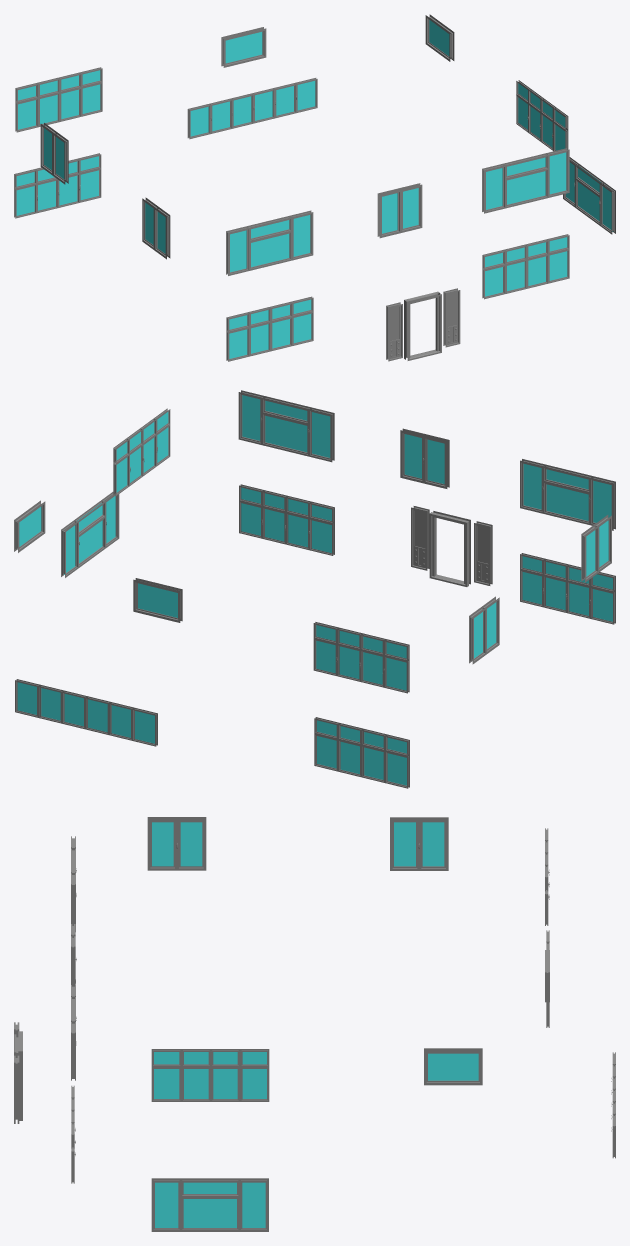
The model's file is House_Windows.FBX.
3 views of the same model, one above another, from view 1: azimuth 30°, elevation 25°; view 2: azimuth 150°, elevation 25°; view 3: azimuth 270°, elevation 25° (orthographic). The views are drawn at different scales.
Visible parts, largest first — view 1: Window_14_Glass, Window_01_Glass, Window_02_Glass, Window_06_Glass, Window_05_Glass, Window_11_Glass, Window_10_Glass, Frame_Door_Front, Window_01, Window_05, Window_06, Window_02 (+18 smaller); view 2: Window_14_Glass, Window_11_Glass, Window_05_Glass, Window_10_Glass, Window_06_Glass, Window_01_Glass, Window_02_Glass, Frame_Door_Front, Window_06, Window_11, Window_10, Window_02 (+18 smaller); view 3: Window_07_Glass, Window_08_Glass, Window_08, Window_07, Window_12_Glass, Window_13_Glass, Window_12, Window_04_Glass, Window_13, Window_04, Frame_Door_Front.
Part boxes in pixels (x1,y1,x2,y2): Window_14_Glass: (190, 81, 315, 136); Window_01_Glass: (229, 299, 311, 358); Window_02_Glass: (230, 215, 310, 272); Window_06_Glass: (486, 152, 566, 209); Window_05_Glass: (485, 237, 567, 296); Window_11_Glass: (18, 70, 100, 129); Window_10_Glass: (16, 156, 98, 215); Frame_Door_Front: (386, 288, 460, 361); Window_01: (226, 296, 313, 361); Window_05: (482, 234, 569, 299); Window_06: (482, 148, 569, 213); Window_02: (226, 210, 313, 275); Window_14_Glass: (17, 682, 154, 743); Window_11_Glass: (316, 625, 406, 690); Window_05_Glass: (241, 487, 331, 552); Window_10_Glass: (317, 720, 406, 785); Window_06_Glass: (242, 395, 330, 457); Window_01_Glass: (522, 556, 612, 621); Window_02_Glass: (523, 464, 611, 522); Frame_Door_Front: (411, 506, 492, 586); Window_06: (238, 390, 334, 462); Window_11: (313, 622, 409, 693); Window_10: (314, 717, 409, 788); Window_02: (520, 459, 615, 530); Window_07_Glass: (155, 1182, 265, 1227); Window_08_Glass: (154, 1052, 266, 1098); Window_08: (151, 1049, 269, 1101); Window_07: (151, 1178, 268, 1231); Window_12_Glass: (152, 822, 202, 866); Window_13_Glass: (394, 822, 444, 866); Window_12: (147, 817, 206, 870); Window_04_Glass: (428, 1053, 478, 1080); Window_13: (390, 817, 448, 870); Window_04: (424, 1048, 482, 1085); Frame_Door_Front: (14, 1022, 22, 1123).
Bounding box in the file's own units: 1846 × 1797 × 587.
